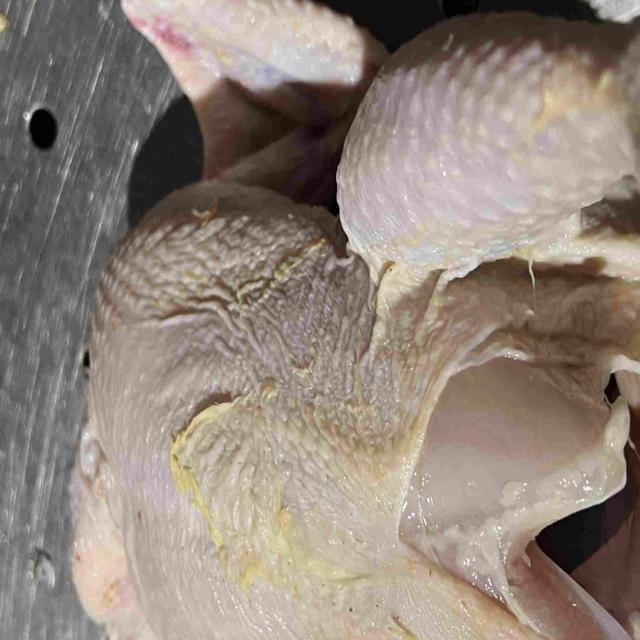breast: (97, 188, 627, 640)
leg: (336, 8, 640, 258)
neck: (70, 397, 160, 640)
wing: (120, 0, 378, 188)
